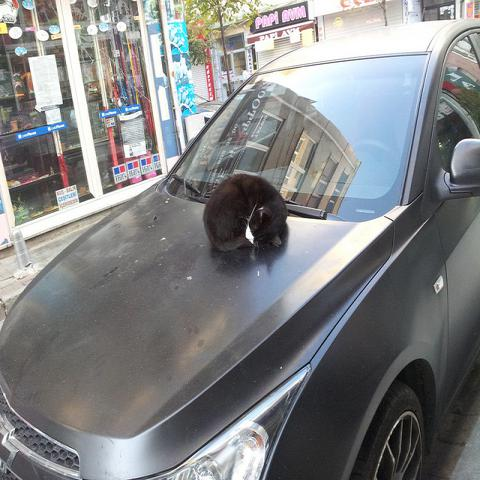car: (2, 20, 479, 474), (194, 92, 224, 123)
